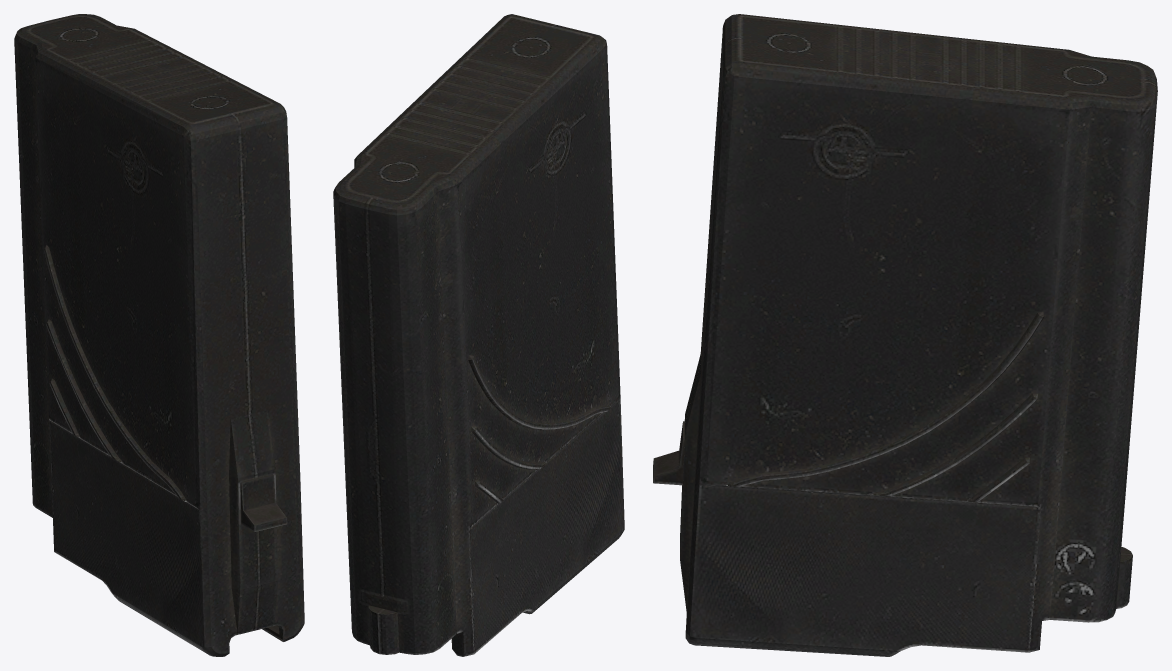
3 renders of one model, left to right at view 1: azimuth 30°, elevation 25°; view 2: azimuth 150°, elevation 25°; view 3: azimuth 270°, elevation 25°, orthographic. The views are drawn at different scales.
Parts seen in each view (by area): view 1: TW_5c503ad32e2216398b5aada2_PZ_Import; view 2: TW_5c503ad32e2216398b5aada2_PZ_Import; view 3: TW_5c503ad32e2216398b5aada2_PZ_Import.
Boxes of the visible parts, x1,y1,x2,y2 form: TW_5c503ad32e2216398b5aada2_PZ_Import: [14, 14, 304, 656]; TW_5c503ad32e2216398b5aada2_PZ_Import: [333, 14, 624, 656]; TW_5c503ad32e2216398b5aada2_PZ_Import: [653, 14, 1157, 656].
Size of the model in its own units: 0.0138 by 0.0481 by 0.0626.
Materials: 1 (1 with a texture image).
